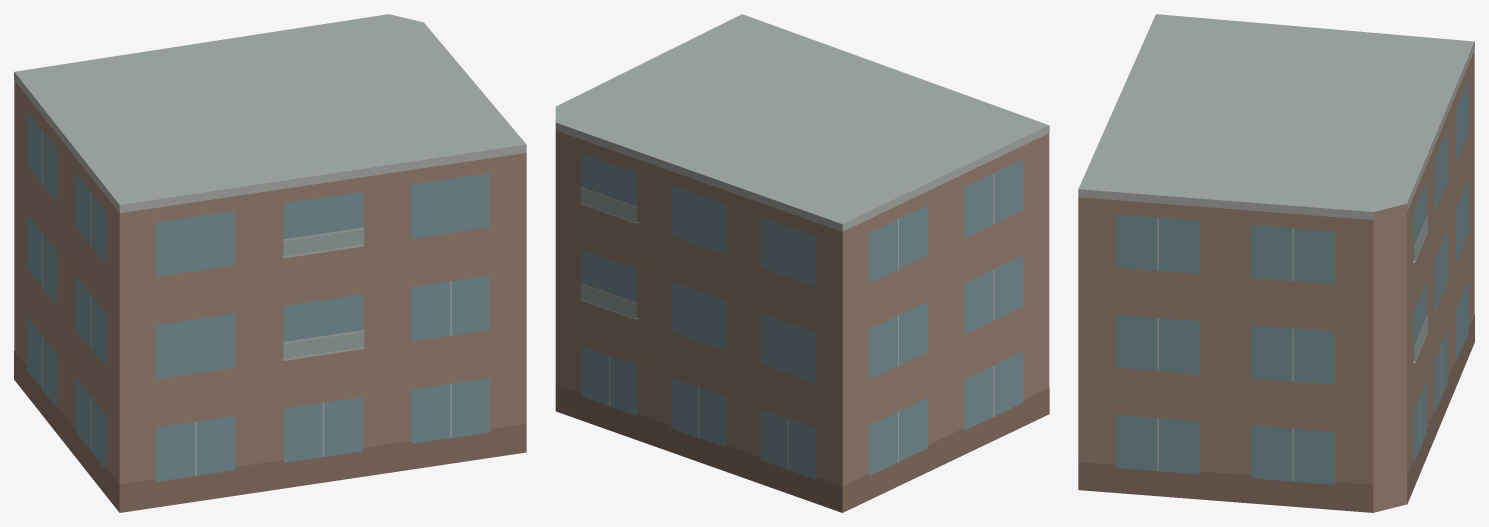
File: survey-upis-32676899.glb
3 views of the same model, side by side, from view 1: azimuth 30°, elevation 25°; view 2: azimuth 150°, elevation 25°; view 3: azimuth 270°, elevation 25° (orthographic). The views are drawn at different scales.
Parts seen in each view (by area): view 1: survey-upis-32676899.tmp; view 2: survey-upis-32676899.tmp; view 3: survey-upis-32676899.tmp.
Boxes of the visible parts, bbox=[...] form: survey-upis-32676899.tmp: bbox=[14, 14, 526, 512]; survey-upis-32676899.tmp: bbox=[555, 14, 1049, 512]; survey-upis-32676899.tmp: bbox=[1078, 14, 1474, 512].
Bounding box in the file's own units: 12.93 × 9.15 × 10.94.
